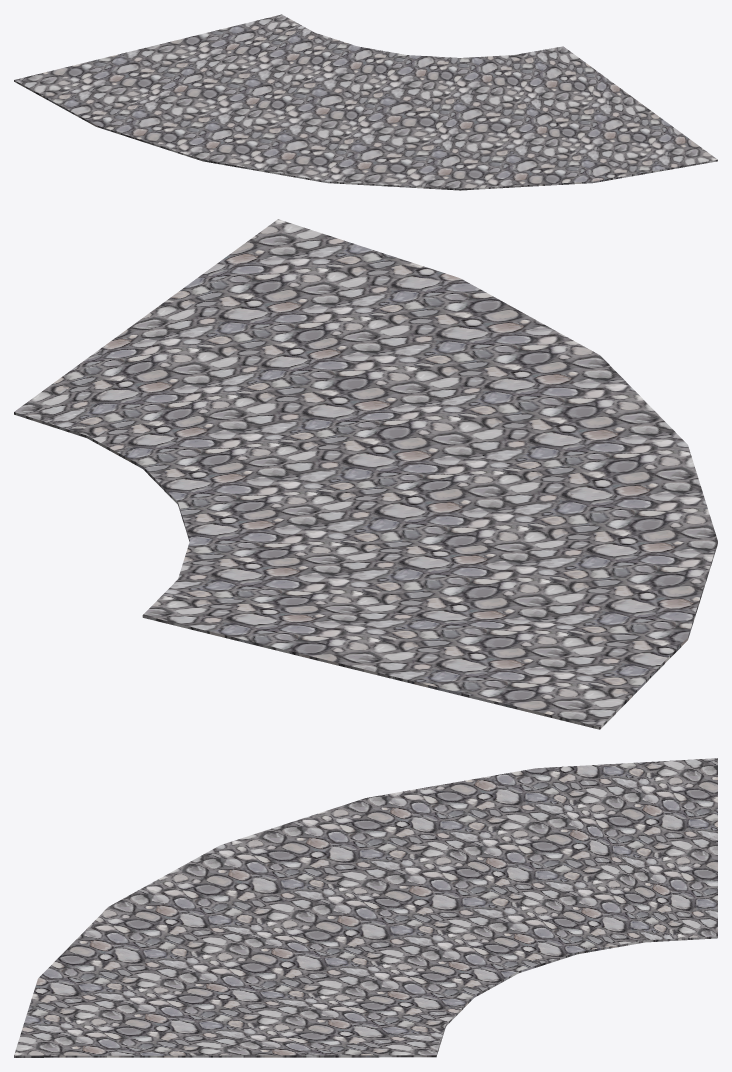
File: e_tower_floor_outer.fbx
3 renders of one model, top to bottom at view 1: azimuth 30°, elevation 25°; view 2: azimuth 150°, elevation 25°; view 3: azimuth 270°, elevation 25°, orthographic. The views are drawn at different scales.
Visible parts, largest first — view 1: polySurface1890; view 2: polySurface1890; view 3: polySurface1890.
Part boxes in pixels (x1,y1,x2,y2): polySurface1890: (14,14,717,190); polySurface1890: (14,219,717,729); polySurface1890: (14,758,717,1057).
Bounding box in the file's own units: 9 × 0.0357 × 9.
